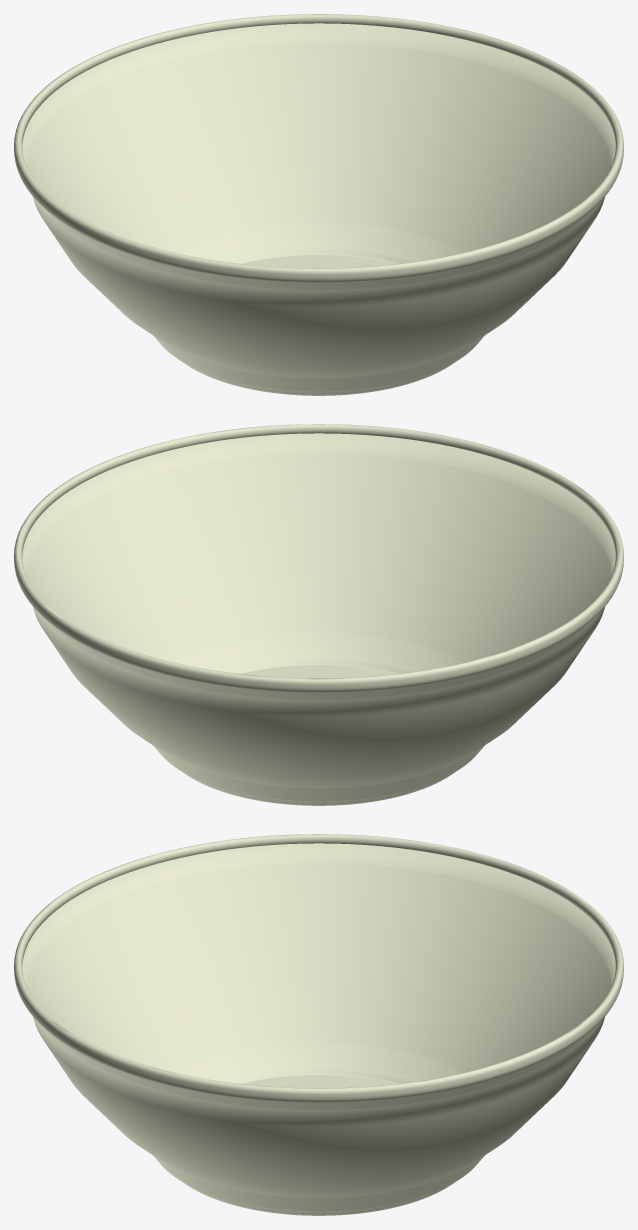
File: bowl.fbx
3 renders of one model, top to bottom at view 1: azimuth 30°, elevation 25°; view 2: azimuth 150°, elevation 25°; view 3: azimuth 270°, elevation 25°, orthographic.
Parts seen in each view (by area): view 1: Circle; view 2: Circle; view 3: Circle.
Part boxes in pixels (bbox=[...]): Circle: bbox=[14, 14, 623, 395]; Circle: bbox=[14, 424, 623, 805]; Circle: bbox=[14, 834, 623, 1215].
Size of the model in its own units: 251 by 85.39 by 251.
